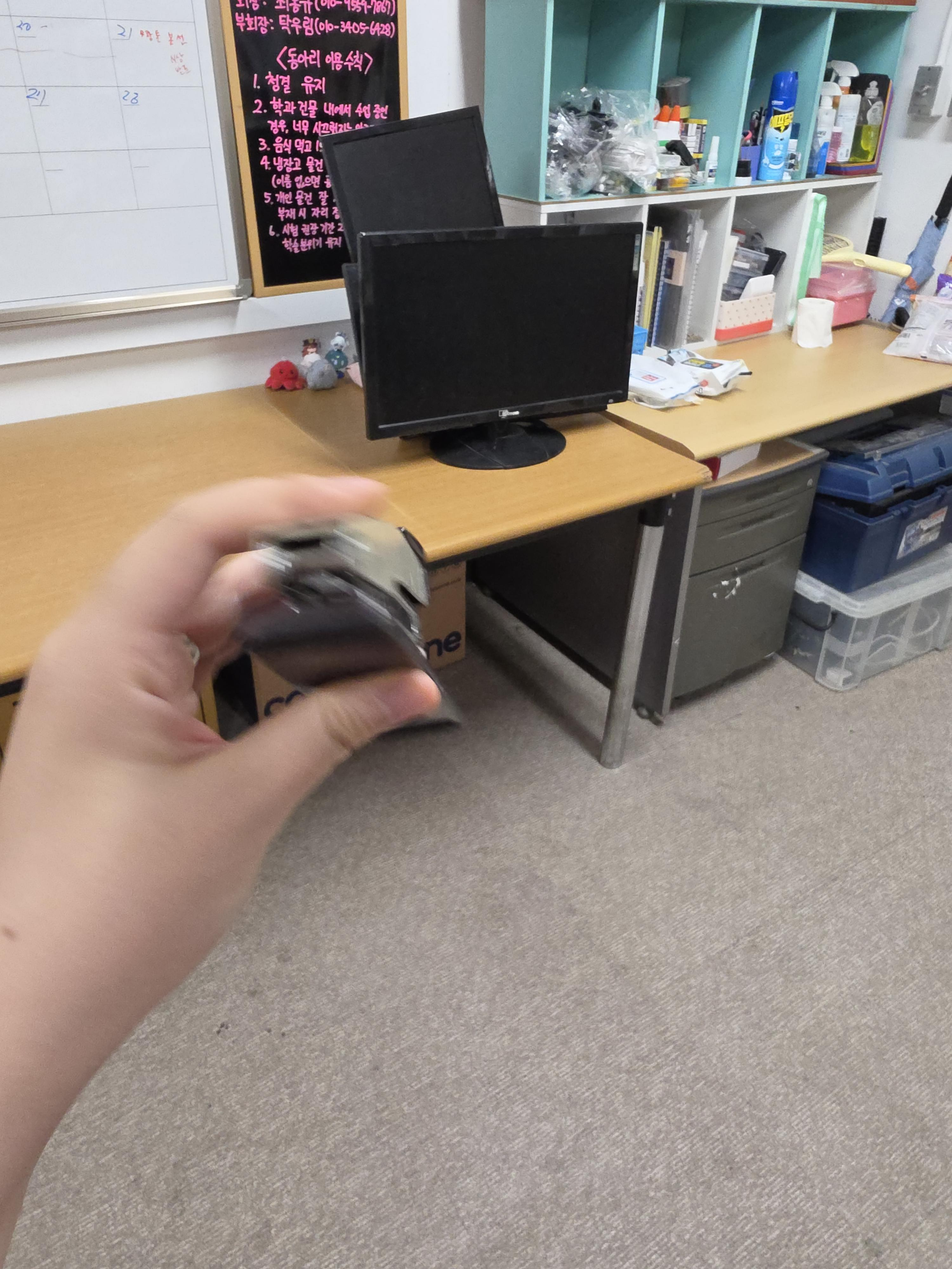stapler: (229, 514, 463, 734)
tissue: (715, 275, 776, 342), (795, 298, 834, 349)
